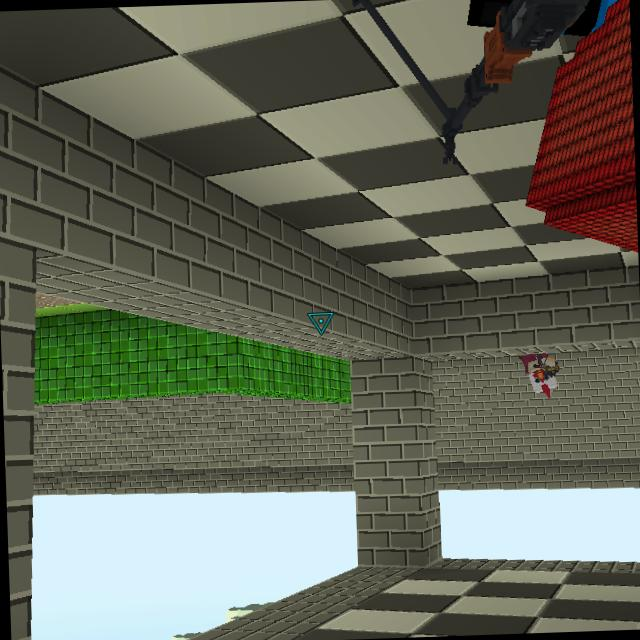enemy: (516, 353, 560, 400)
